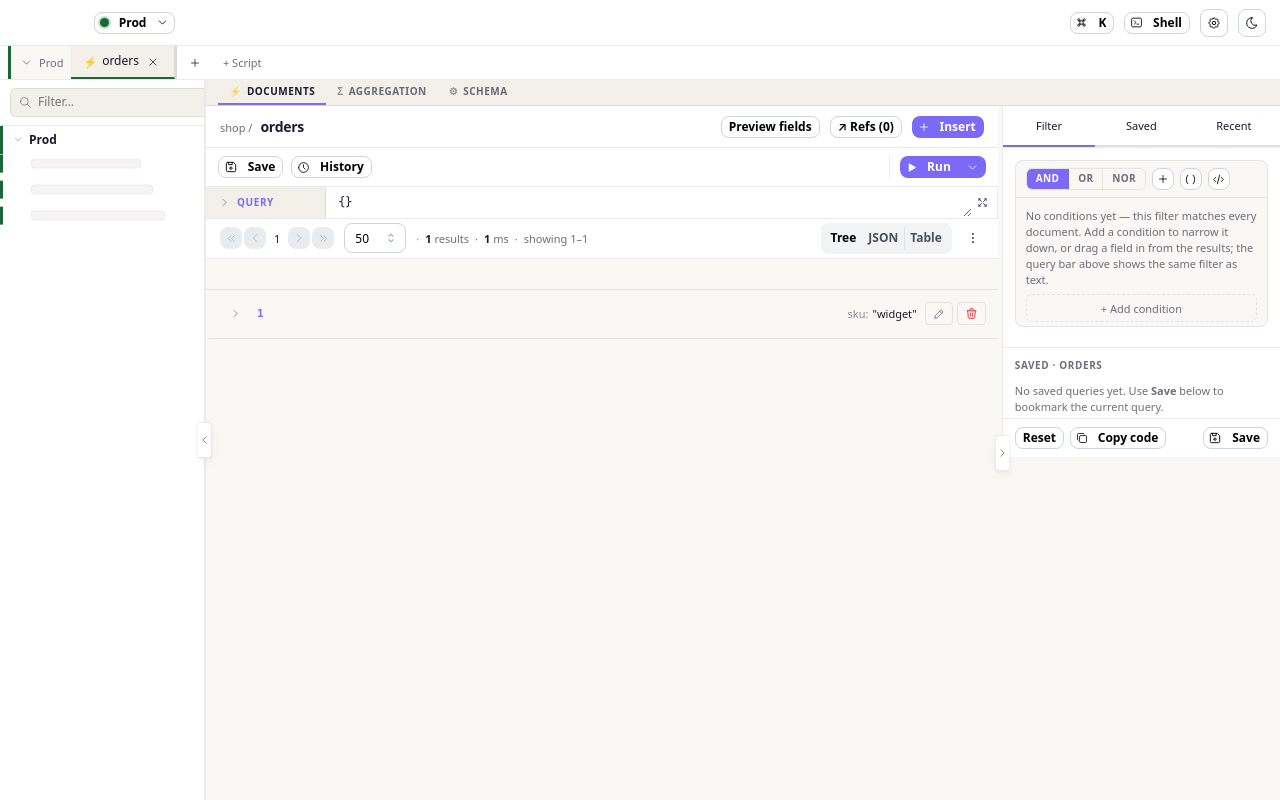
Test: workspace doc dialogs (T2) › toolbar "Insert" opens InsertDrawer with the default {} document
Expected: the text "\"widget\"" is shown, [872,305,917,322]
Step 1. Click the button with aria-label "Insert document" → click(948, 126), box [912,116,984,138]
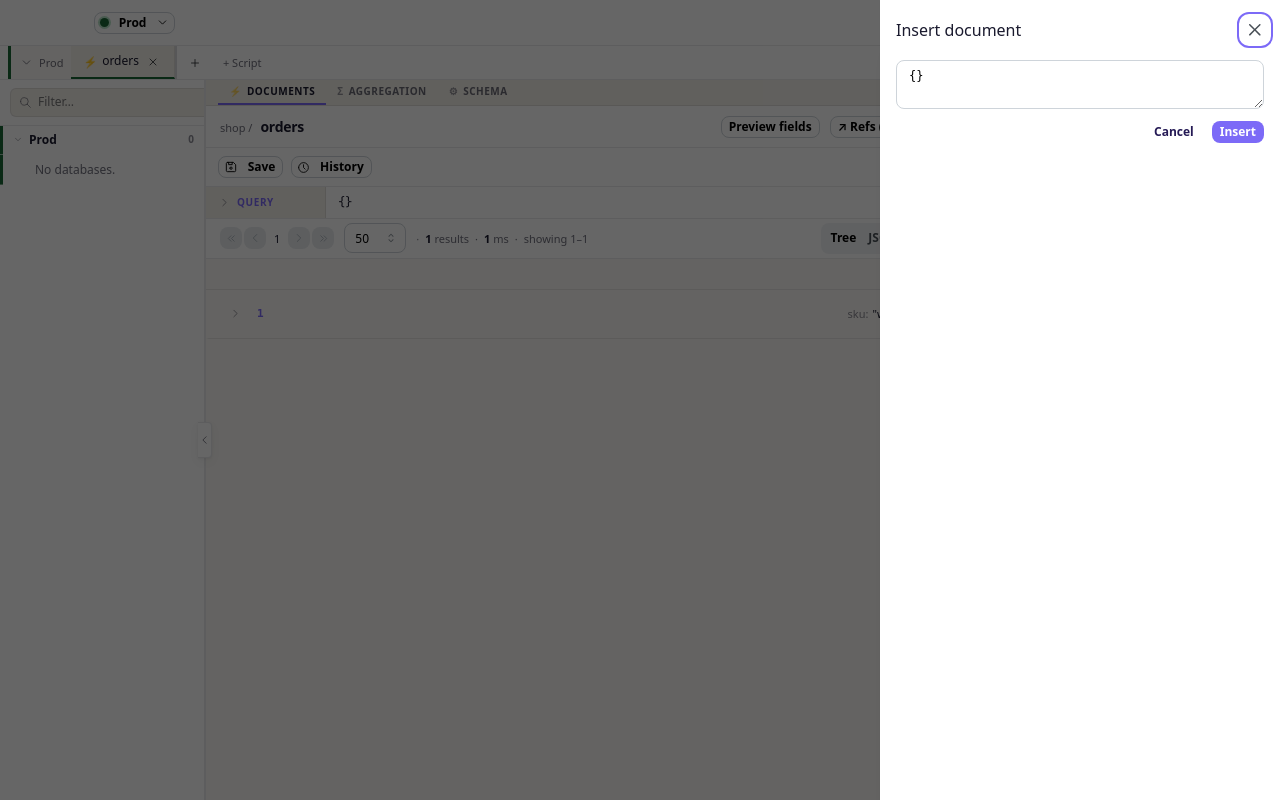
Expected: the text box holds "{}", [896,60,1264,109]
